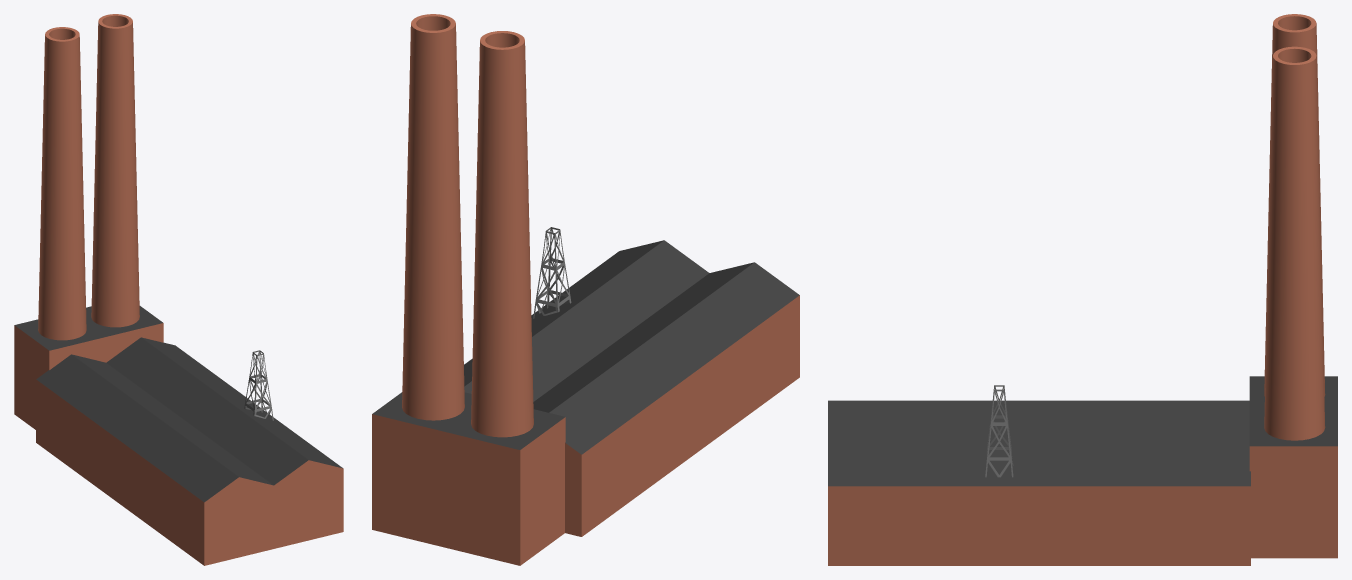
Rendered from factory_01.fbx.
3 views of the same model, side by side, from view 1: azimuth 30°, elevation 25°; view 2: azimuth 150°, elevation 25°; view 3: azimuth 270°, elevation 25° (orthographic). The views are drawn at different scales.
Parts seen in each view (by area): view 1: Factory_01; view 2: Factory_01; view 3: Factory_01.
Boxes of the visible parts, x1,y1,x2,y2 form: Factory_01: (14, 14, 343, 565); Factory_01: (372, 14, 799, 565); Factory_01: (828, 14, 1337, 565).
Bounding box in the file's own units: 1254 × 3314 × 3164.
